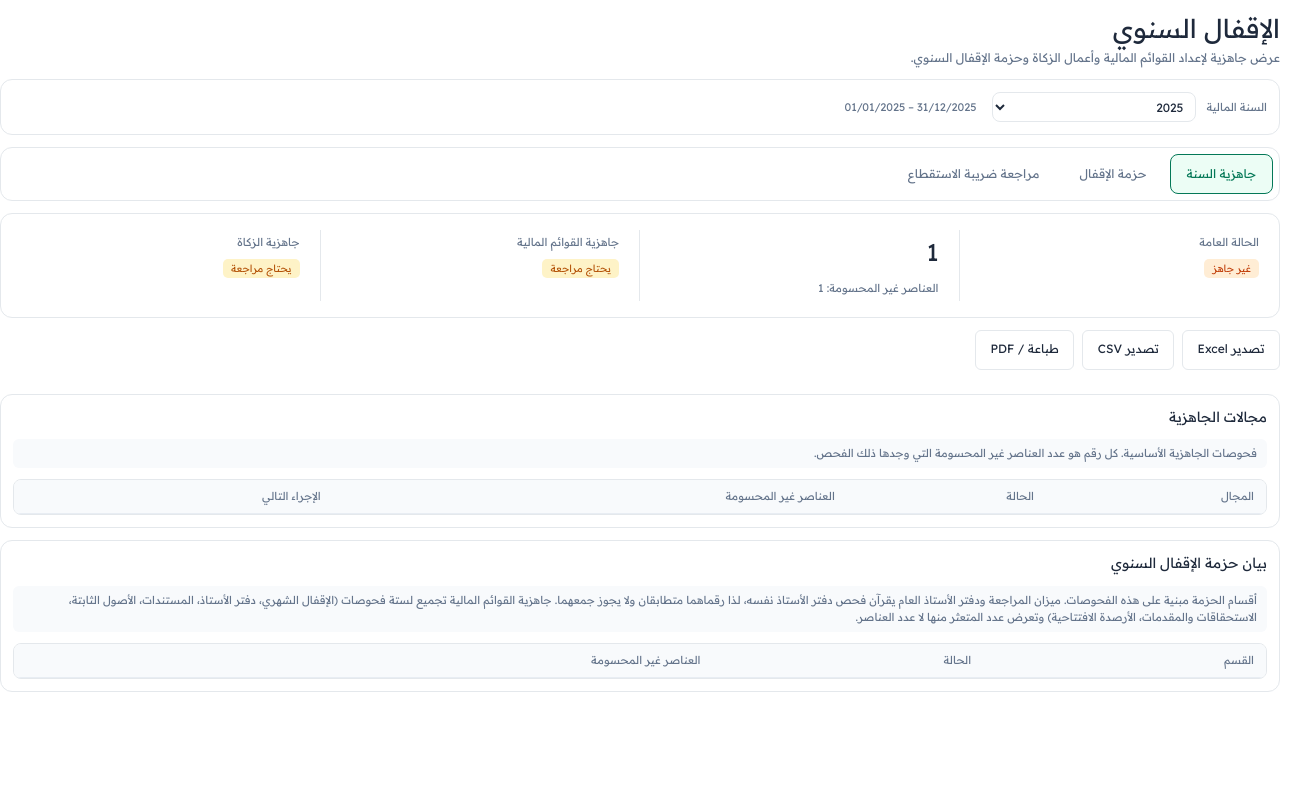
Test: Annual Closing Center › renders friendly Arabic package sources and blocker messages without technical identifiers
Step 1. Click the tab "حزمة الإقفال" → (1113, 174), box x1=1062 y1=154 x2=1164 y2=194
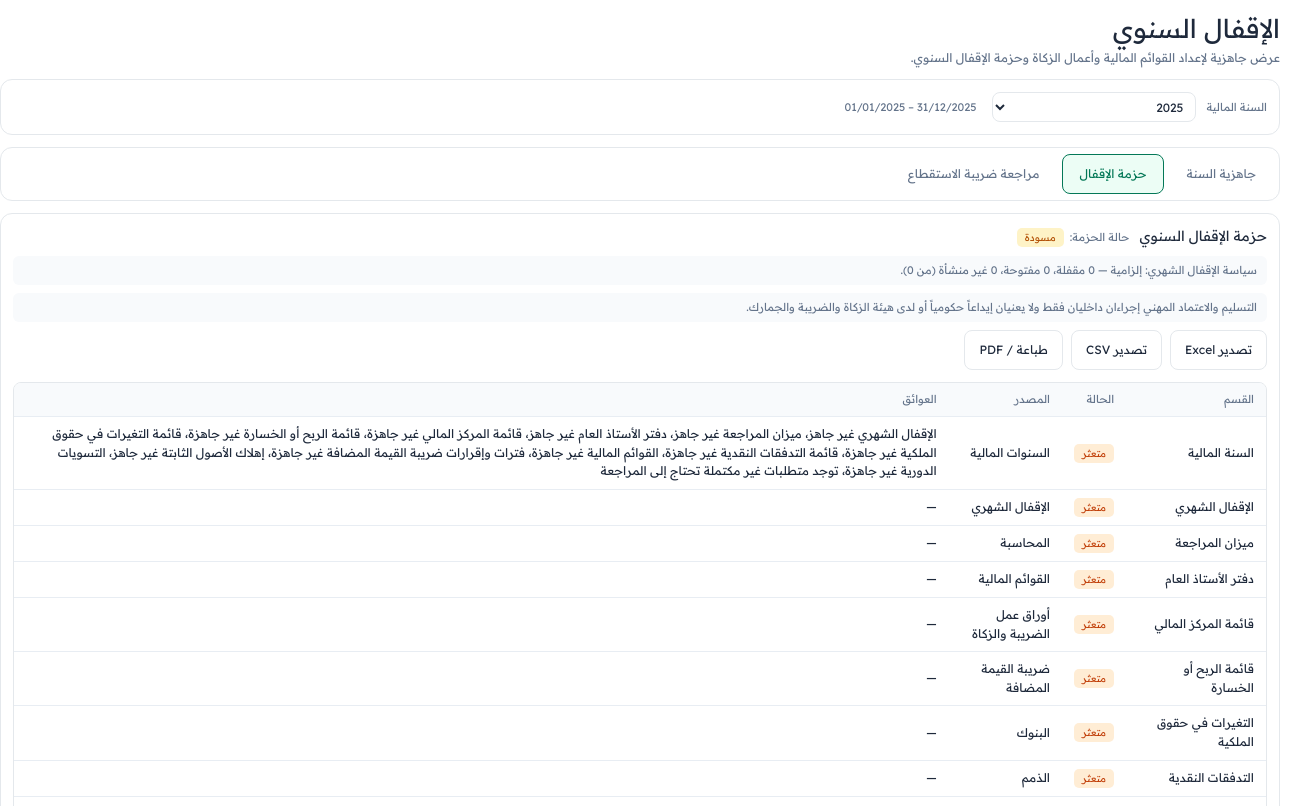
Now the text "السنوات المالية" is shown, box x1=949 y1=417 x2=1062 y2=490
Now the text "الإقفال الشهري غير جاهز" is shown, box x1=52 y1=426 x2=937 y2=478
Now the text "القوائم المالية غير جاهزة" is shown, box x1=52 y1=426 x2=937 y2=478
